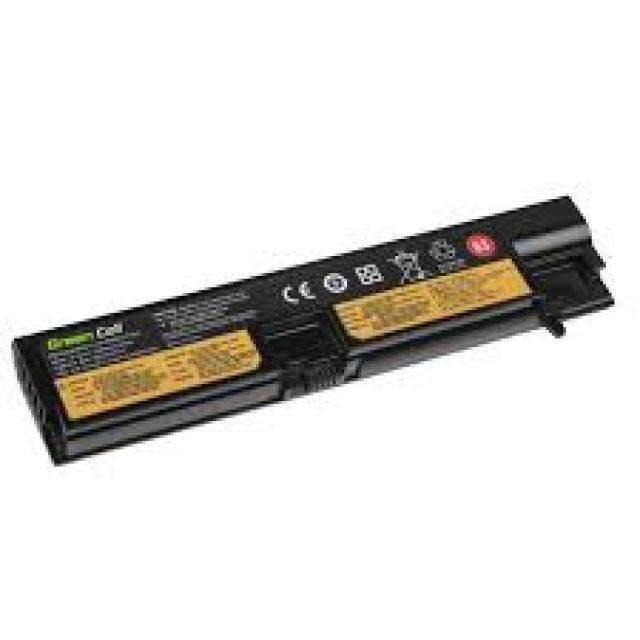battery: (9, 193, 620, 467)
